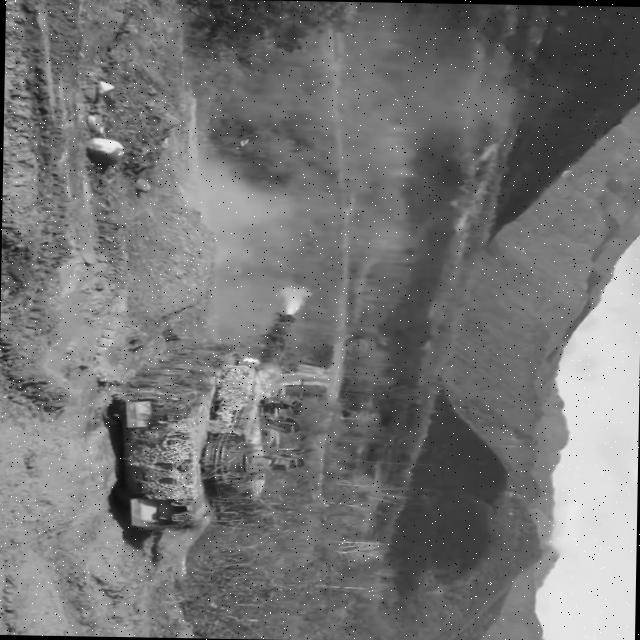korea tank: (102, 306, 312, 532)
